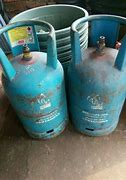blue_gas: (1, 20, 69, 139), (69, 15, 126, 137)
